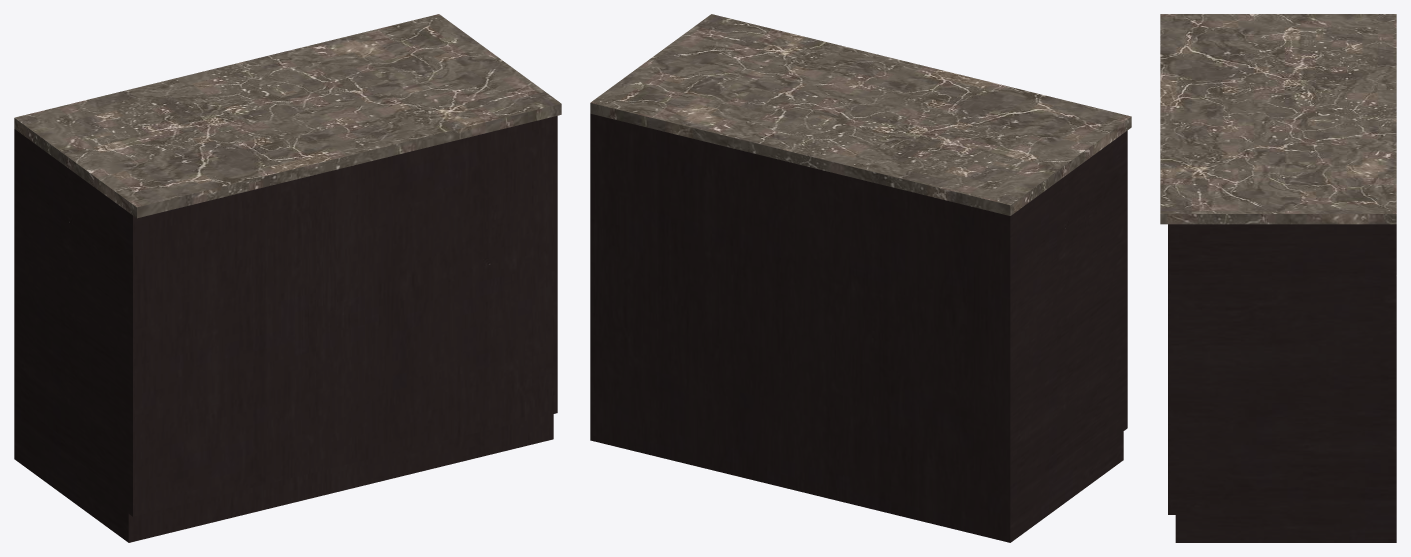
File: counter.glb
3 views of the same model, side by side, from view 1: azimuth 30°, elevation 25°; view 2: azimuth 150°, elevation 25°; view 3: azimuth 270°, elevation 25° (orthographic). The views are drawn at different scales.
Visible parts, largest first — view 1: countertop_i_4x2; view 2: countertop_i_4x2; view 3: countertop_i_4x2.
Part boxes in pixels (x1=…): countertop_i_4x2: x1=14, y1=14, x2=561, y2=542; countertop_i_4x2: x1=590, y1=14, x2=1131, y2=542; countertop_i_4x2: x1=1160, y1=14, x2=1396, y2=542.
Size of the model in its own units: 1.22 by 0.936 by 0.6096.
Materials: 2 (2 with a texture image).
